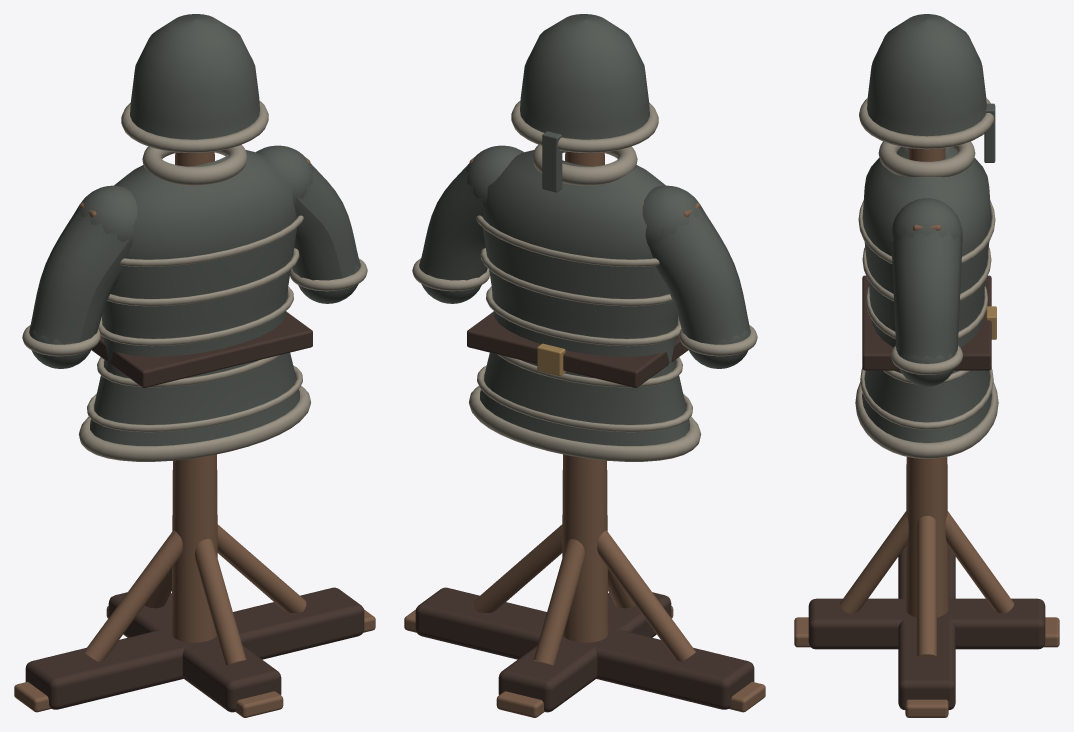
File: detail_armor_stand.glb
3 renders of one model, left to right at view 1: azimuth 30°, elevation 25°; view 2: azimuth 150°, elevation 25°; view 3: azimuth 270°, elevation 25°, orthographic. The views are drawn at different scales.
Parts seen in each view (by area): view 1: metal, wood, stone; view 2: metal, wood, stone; view 3: metal, wood, stone.
Part boxes in pixels (bbox=[...]): metal: bbox=[22, 145, 367, 461]; wood: bbox=[14, 100, 375, 717]; stone: bbox=[130, 14, 259, 139]; metal: bbox=[412, 145, 757, 461]; wood: bbox=[404, 100, 765, 717]; stone: bbox=[520, 14, 649, 192]; metal: bbox=[855, 141, 998, 458]; wood: bbox=[794, 98, 1059, 717]; stone: bbox=[867, 14, 995, 162].
Size of the model in its own units: 1 by 1.8 by 0.7.
